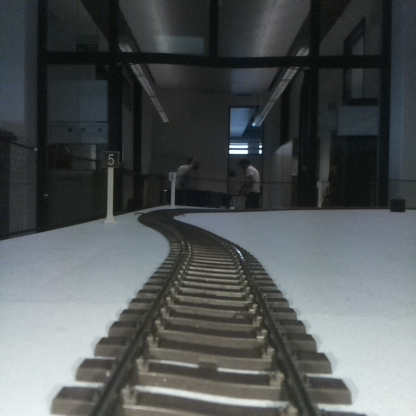black-info-5: (103, 151, 119, 222)
